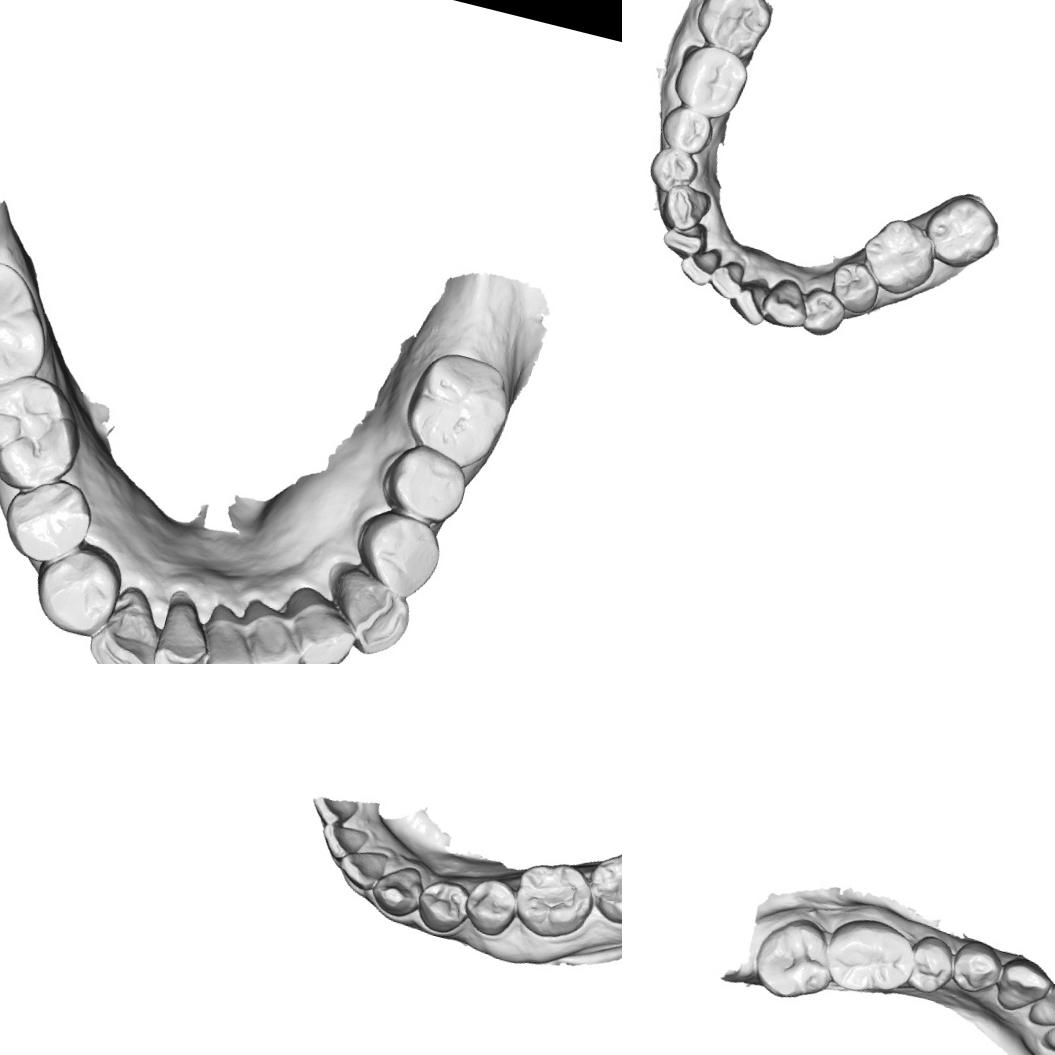canine: (321, 564, 420, 663), (80, 578, 177, 664), (990, 955, 1055, 1018), (366, 858, 428, 923), (757, 272, 815, 332), (656, 178, 714, 236)
incisor: (279, 587, 364, 664), (150, 591, 222, 664), (237, 602, 315, 664), (195, 604, 270, 664), (334, 842, 390, 894), (724, 270, 773, 328), (659, 212, 712, 262), (316, 818, 371, 866), (674, 239, 725, 290), (704, 254, 748, 304), (1024, 975, 1055, 1037)
molar: (398, 344, 522, 475), (0, 361, 97, 501), (0, 246, 65, 396), (747, 909, 844, 1008), (819, 909, 920, 1004), (505, 853, 601, 947), (852, 210, 944, 303), (916, 186, 1006, 277), (666, 38, 754, 123), (687, 0, 776, 64), (579, 838, 622, 934)
premolar: (0, 464, 103, 573), (344, 505, 450, 606), (27, 537, 124, 642), (376, 436, 473, 530), (458, 872, 523, 941), (410, 872, 474, 938), (824, 255, 886, 318), (947, 936, 1008, 998), (654, 100, 718, 158), (904, 931, 958, 997), (642, 143, 704, 200), (794, 282, 850, 342)
